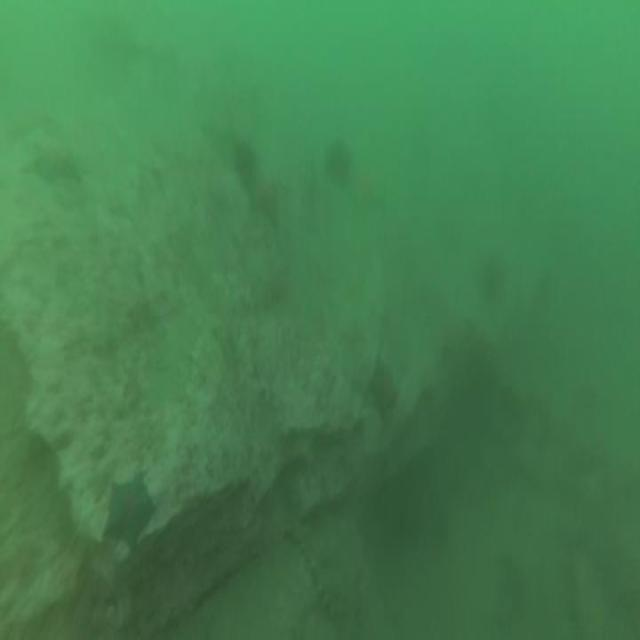echinus: (476, 250, 509, 313), (322, 133, 354, 191), (232, 133, 257, 188)
starfish: (102, 472, 158, 556), (22, 134, 81, 193), (245, 158, 281, 235), (366, 354, 401, 425)
